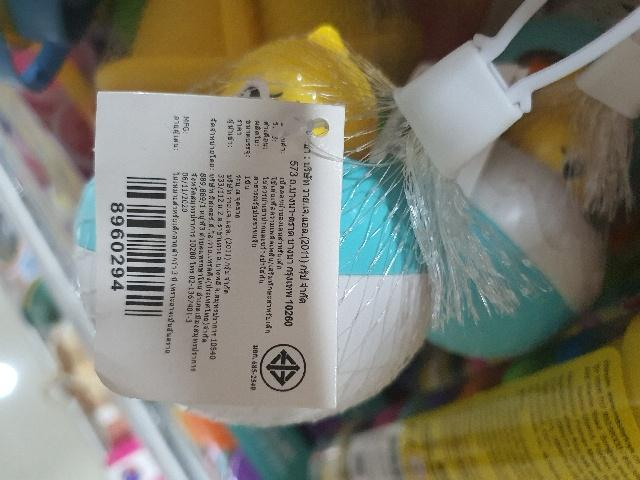Barcode: (110, 165, 172, 329)
